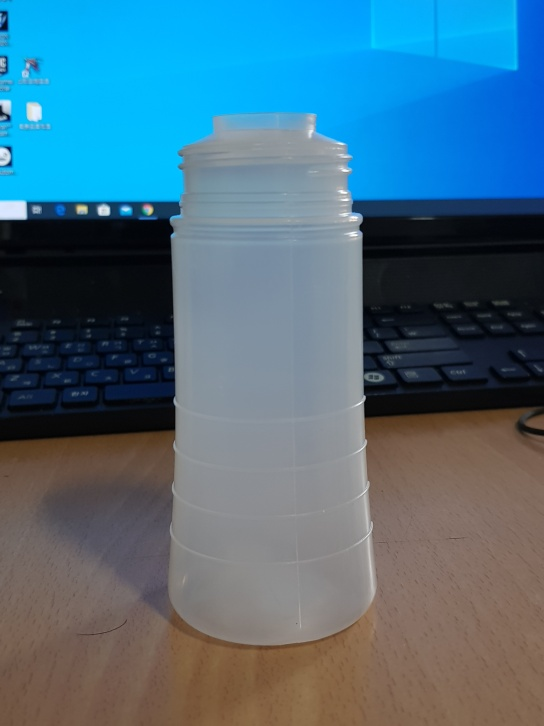Plastic: (167, 113, 379, 647)
